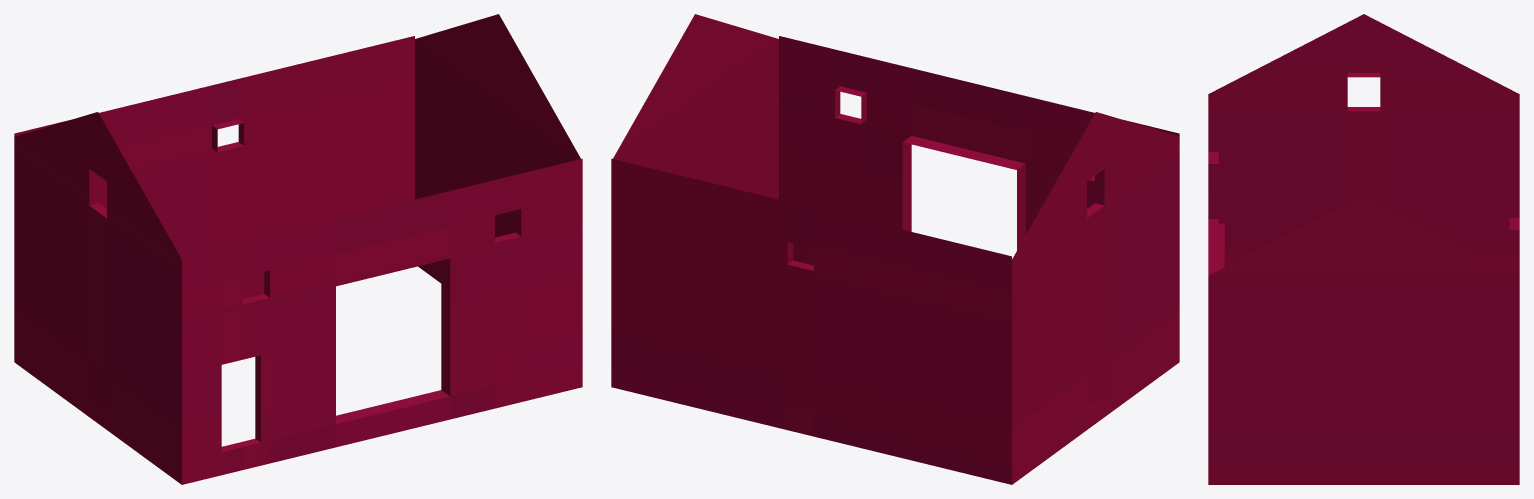
The model's file is SM_Bld_001_Masonry.glb.
3 views of the same model, side by side, from view 1: azimuth 30°, elevation 25°; view 2: azimuth 150°, elevation 25°; view 3: azimuth 270°, elevation 25° (orthographic). The views are drawn at different scales.
Visible parts, largest first — view 1: SM_Bld_001_Masonry; view 2: SM_Bld_001_Masonry; view 3: SM_Bld_001_Masonry.
Part boxes in pixels (x1,y1,x2,y2): SM_Bld_001_Masonry: [14, 14, 582, 484]; SM_Bld_001_Masonry: [611, 14, 1179, 484]; SM_Bld_001_Masonry: [1208, 14, 1519, 484].
Size of the model in its own units: 9.12 by 6.78 by 6.61.
